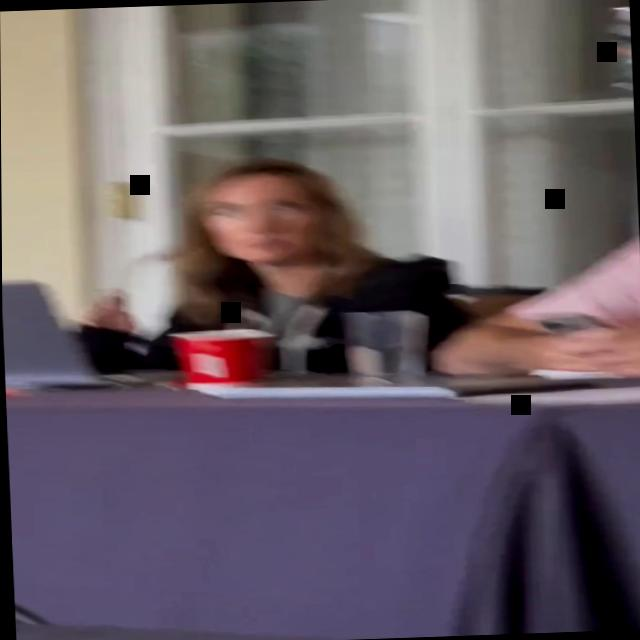NO-Mask: (196, 172, 318, 268)
